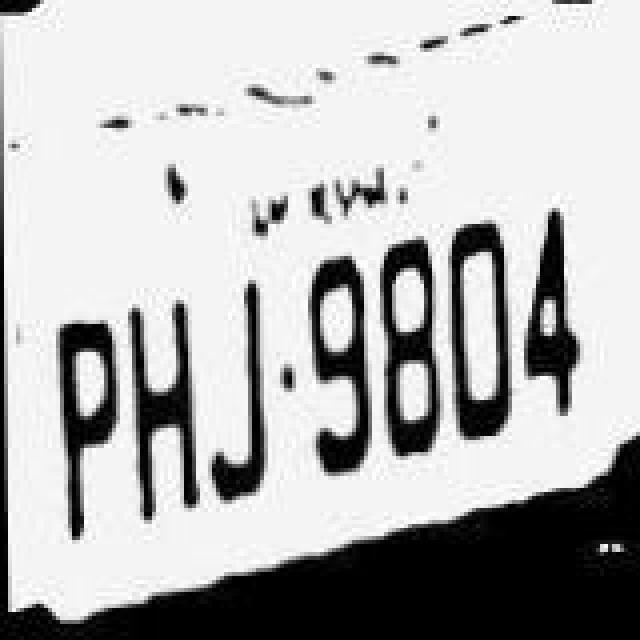4: (516, 192, 596, 456)
8: (370, 238, 446, 510)
9: (294, 238, 370, 518)
H: (128, 260, 208, 532)
J: (202, 258, 278, 522)
O: (446, 204, 522, 480)
P: (50, 266, 134, 534)
